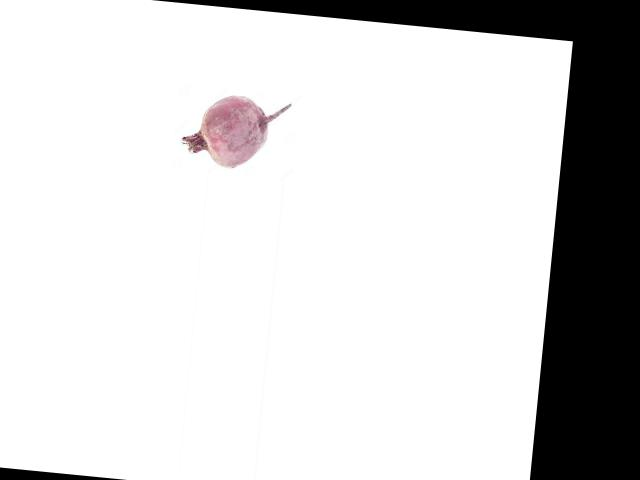beet: (178, 89, 291, 172)
